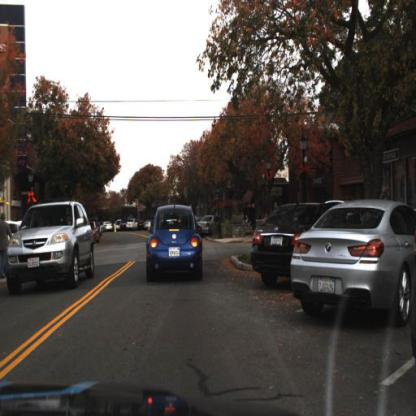car: (289, 196, 416, 331), (246, 193, 346, 289), (6, 198, 97, 295), (144, 201, 204, 286), (198, 208, 228, 238), (88, 218, 102, 245), (101, 220, 114, 234), (127, 218, 139, 232)
